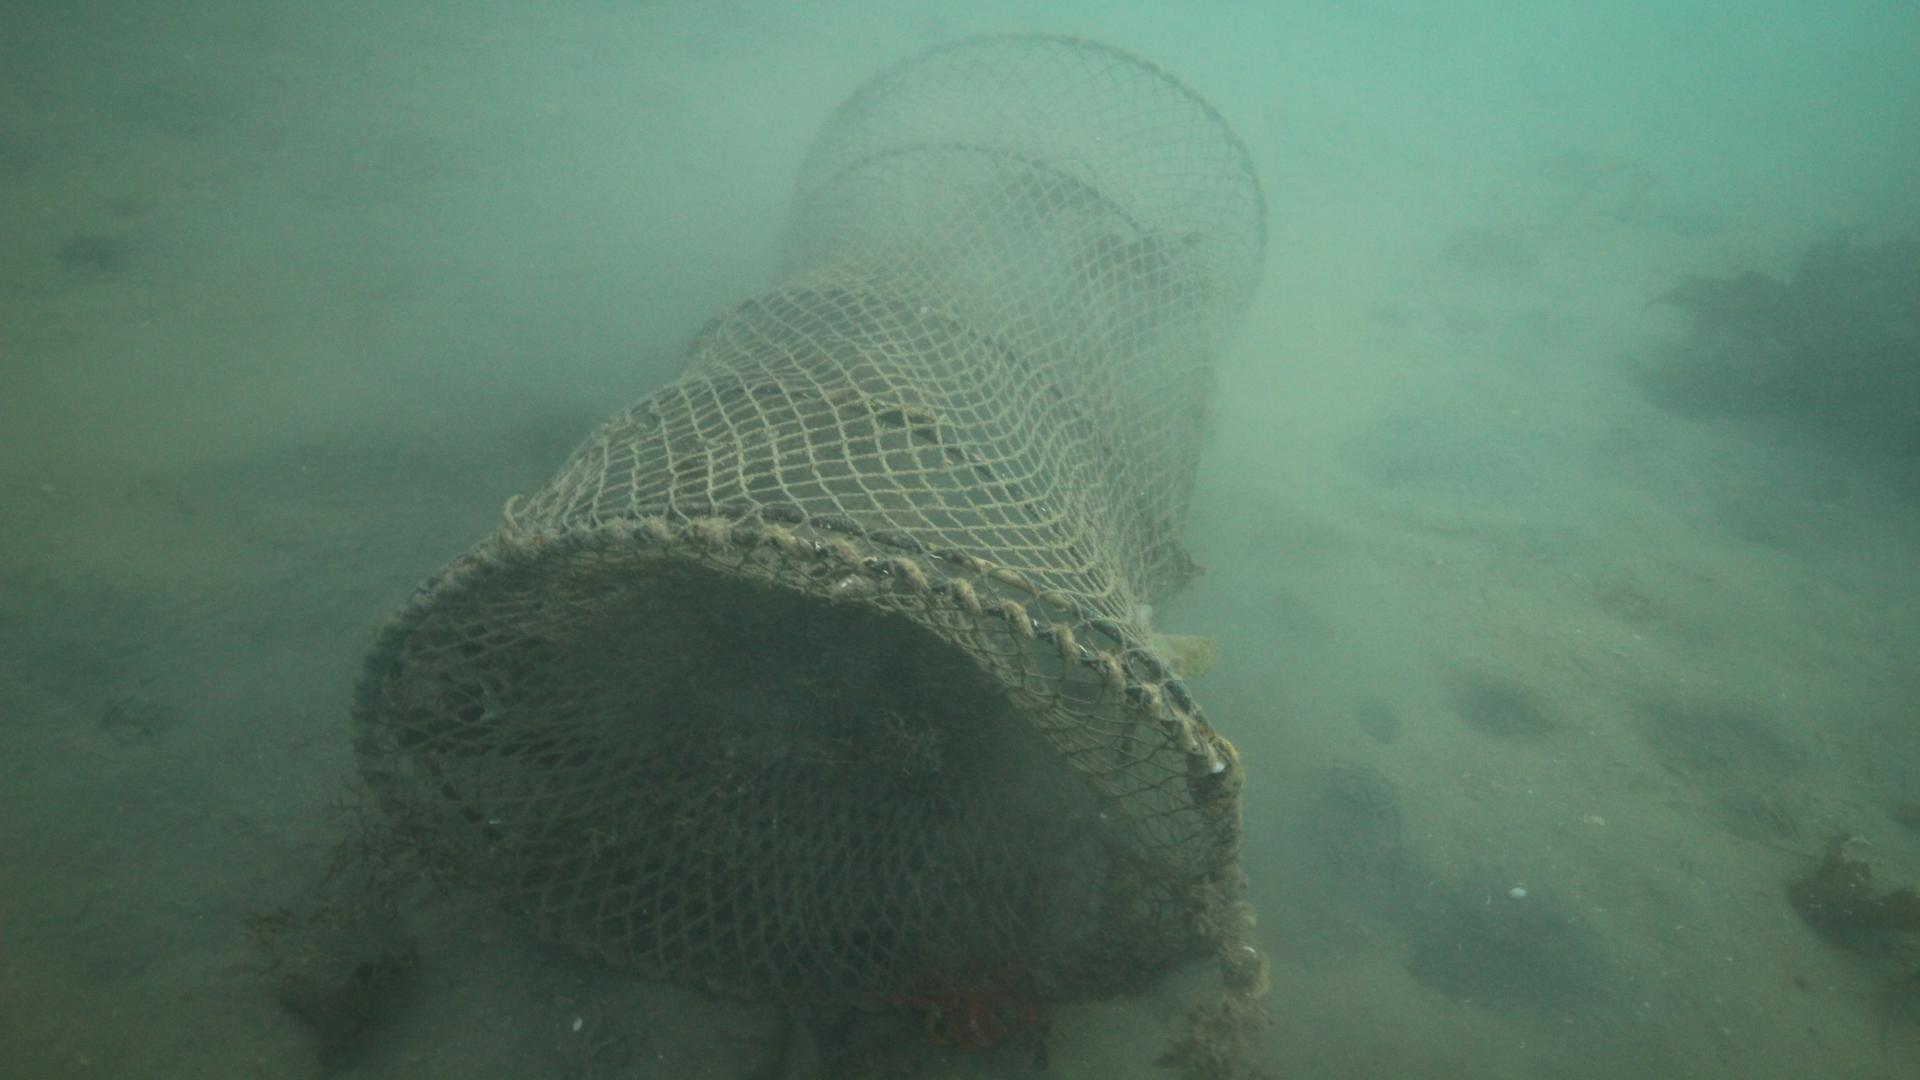spring fish trap: (348, 29, 1269, 1014)
